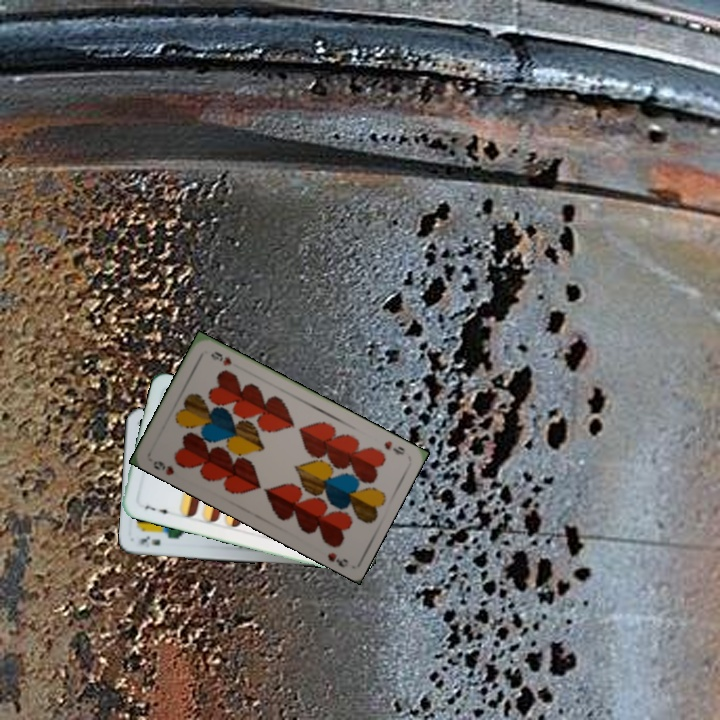E7: (140, 501, 174, 518)
EK: (136, 532, 163, 548)
H9: (149, 457, 177, 478), (380, 437, 408, 458)
